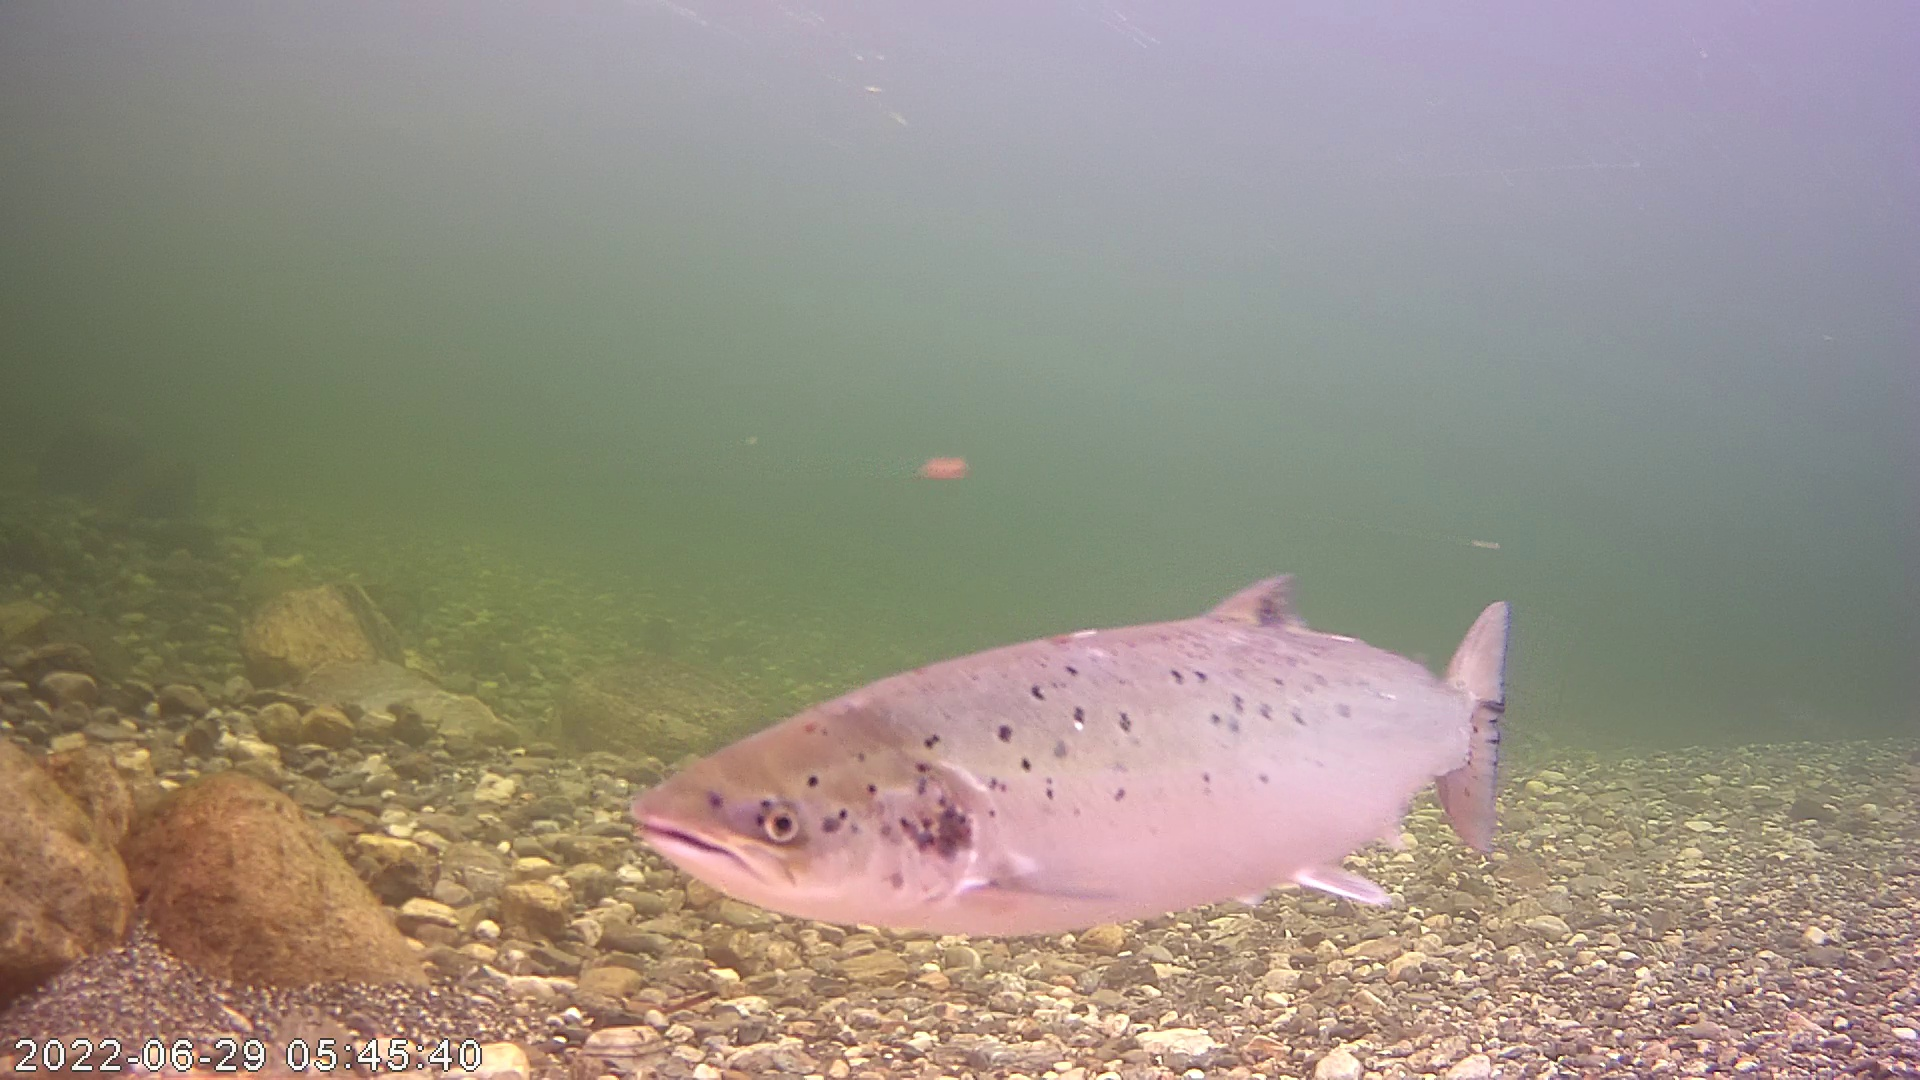salmon: (651, 487, 1519, 952)
